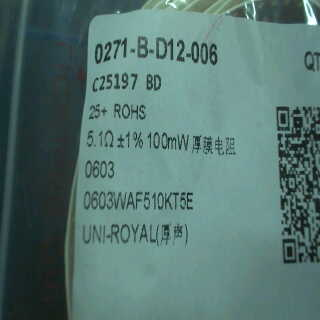5.1R: (84, 127, 122, 154)
